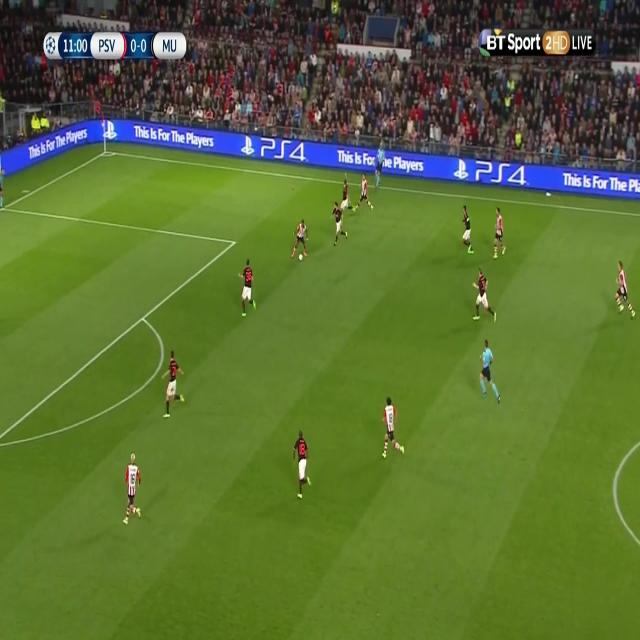Ball: (297, 250, 305, 264)
Player: (160, 348, 187, 422), (122, 451, 145, 527), (380, 394, 406, 460), (292, 427, 314, 501), (472, 265, 499, 325), (613, 259, 637, 326), (238, 256, 257, 320), (330, 198, 350, 250), (352, 170, 376, 212), (459, 202, 477, 257), (491, 206, 507, 263), (290, 216, 309, 262), (338, 171, 354, 211)
Referee: (477, 335, 502, 406), (374, 140, 386, 187)
